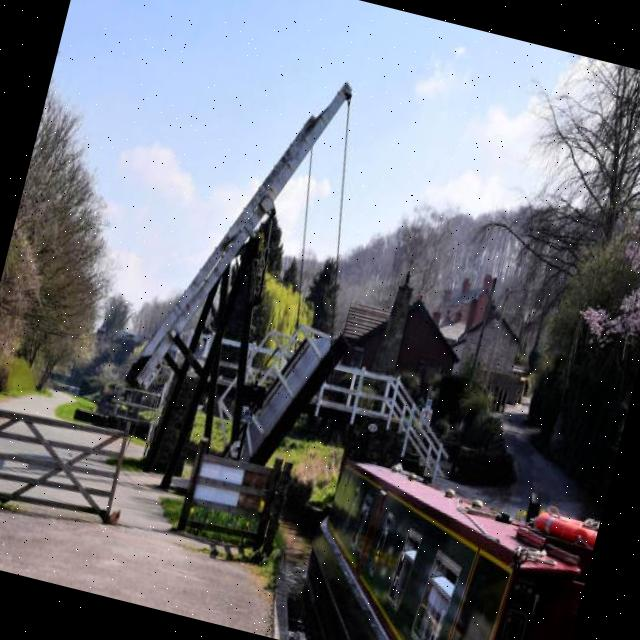Broken Pole: (120, 96, 358, 400)
